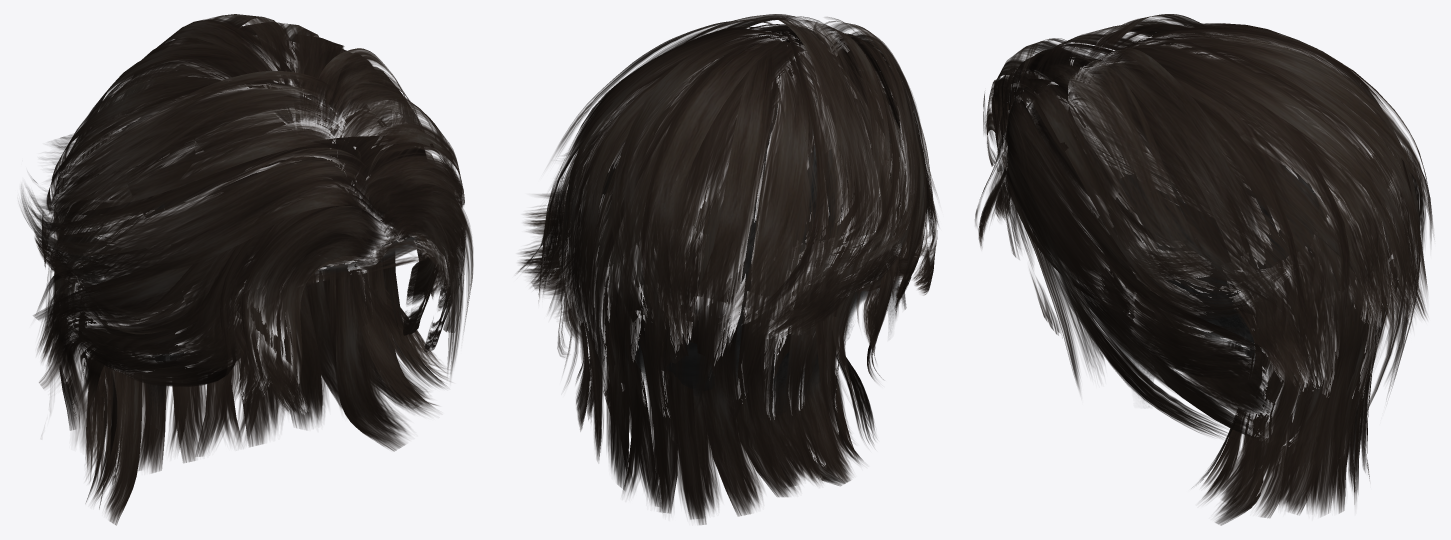
Rendered from Wavy_CrewCut.glb.
3 renders of one model, left to right at view 1: azimuth 30°, elevation 25°; view 2: azimuth 150°, elevation 25°; view 3: azimuth 270°, elevation 25°, orthographic. The views are drawn at different scales.
Visible parts, largest first — view 1: s4studio_mesh_3.004, s4studio_mesh_1.005, s4studio_mesh_2.004, face.002_Plane.003; view 2: s4studio_mesh_3.004, s4studio_mesh_1.005, s4studio_mesh_2.004, face.002_Plane.003; view 3: s4studio_mesh_3.004, s4studio_mesh_1.005, s4studio_mesh_2.004, face.002_Plane.003.
Part boxes in pixels (x1,y1,x2,y2): s4studio_mesh_3.004: [20, 14, 473, 525]; s4studio_mesh_1.005: [44, 58, 464, 522]; s4studio_mesh_2.004: [48, 35, 452, 291]; face.002_Plane.003: [116, 123, 420, 419]; s4studio_mesh_3.004: [517, 14, 938, 524]; s4studio_mesh_1.005: [531, 43, 936, 518]; s4studio_mesh_2.004: [551, 25, 912, 322]; face.002_Plane.003: [601, 82, 899, 415]; s4studio_mesh_3.004: [975, 14, 1433, 525]; s4studio_mesh_1.005: [976, 41, 1412, 519]; s4studio_mesh_2.004: [1008, 29, 1410, 320]; face.002_Plane.003: [1087, 156, 1384, 417].
Size of the model in its own units: 0.2747 by 0.2913 by 0.2644.
Materials: 2 (2 with a texture image).
